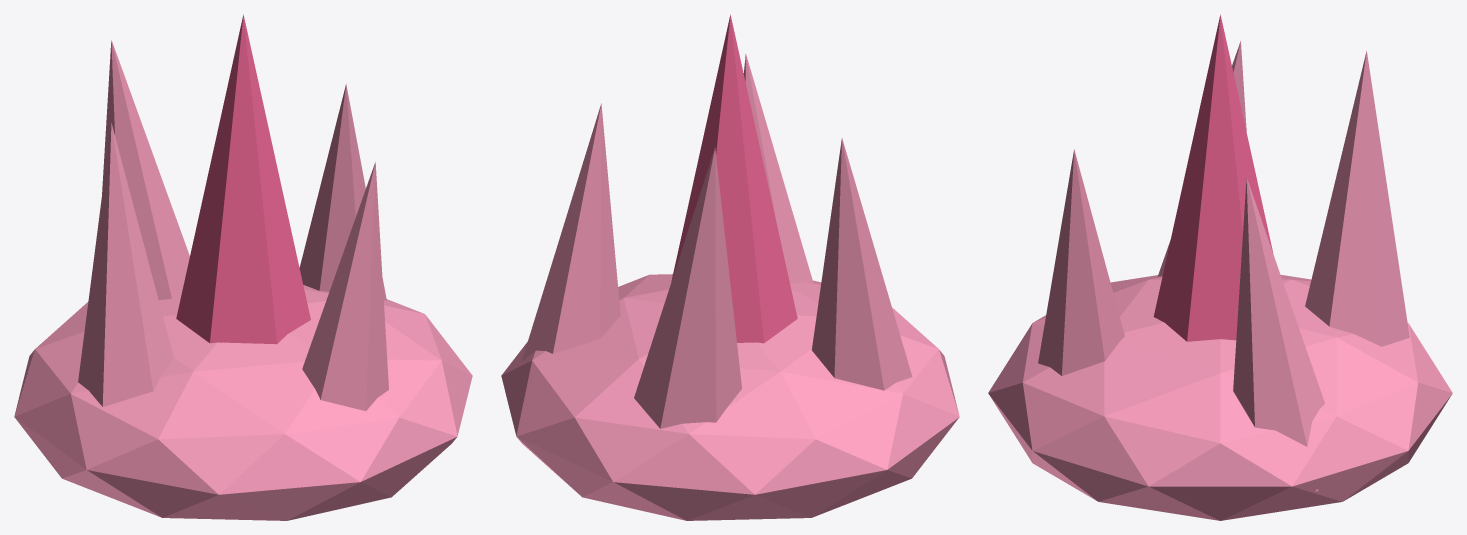
Rendered from Scuba_CoralPink.fbx.
3 renders of one model, left to right at view 1: azimuth 30°, elevation 25°; view 2: azimuth 150°, elevation 25°; view 3: azimuth 270°, elevation 25°, orthographic.
Parts seen in each view (by area): view 1: CoralPink; view 2: CoralPink; view 3: CoralPink.
Part boxes in pixels (left/top/right/bottom): CoralPink: left=14, top=14, right=472, bottom=520; CoralPink: left=501, top=14, right=959, bottom=520; CoralPink: left=988, top=14, right=1452, bottom=520.
Size of the model in its own units: 0.9511 by 1.1 by 1.
